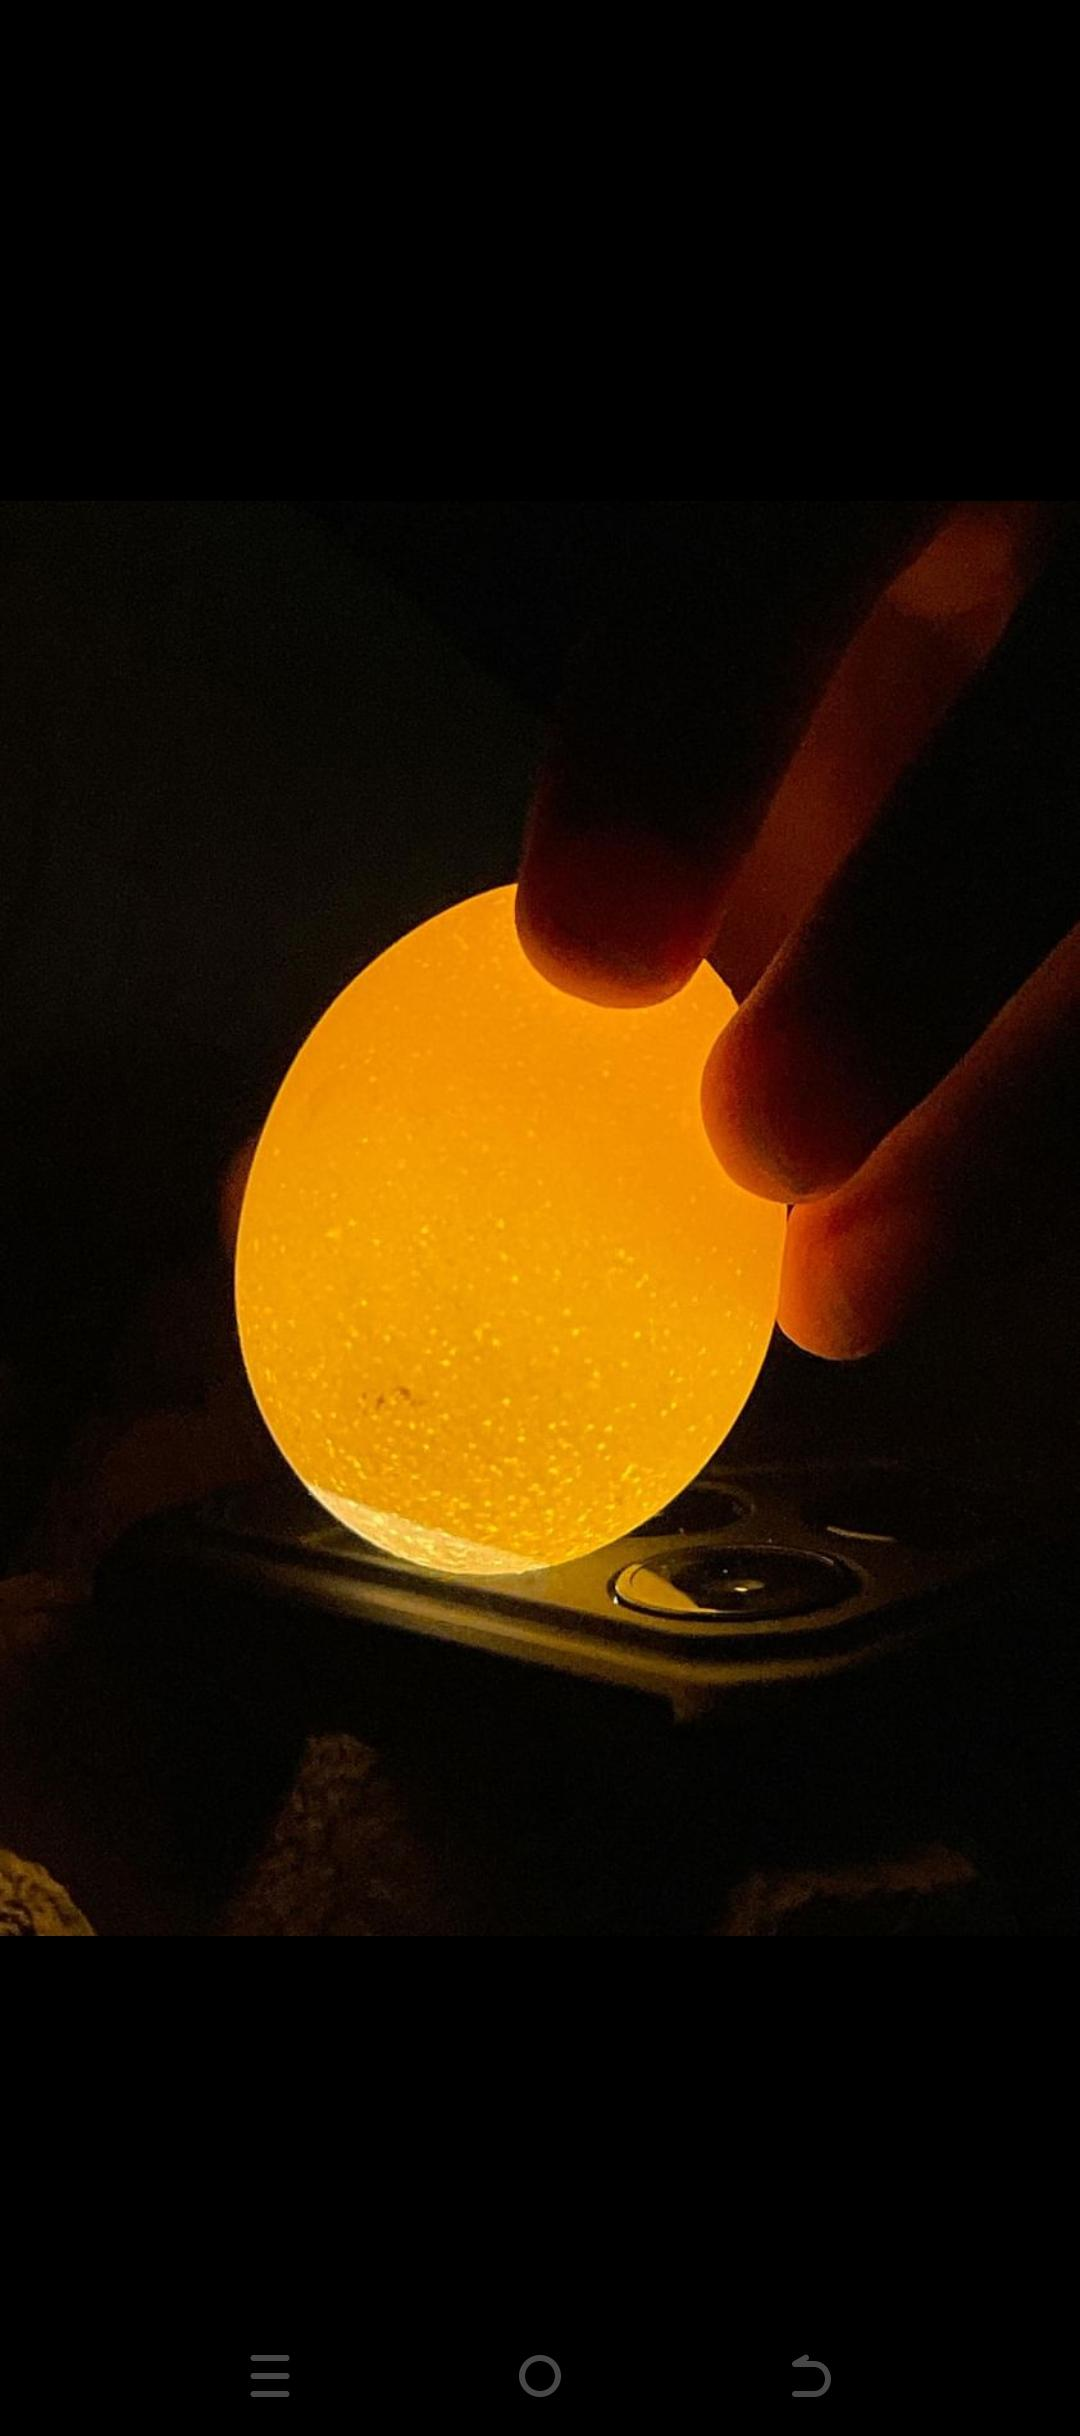AA - Premium: (227, 853, 789, 1613)
